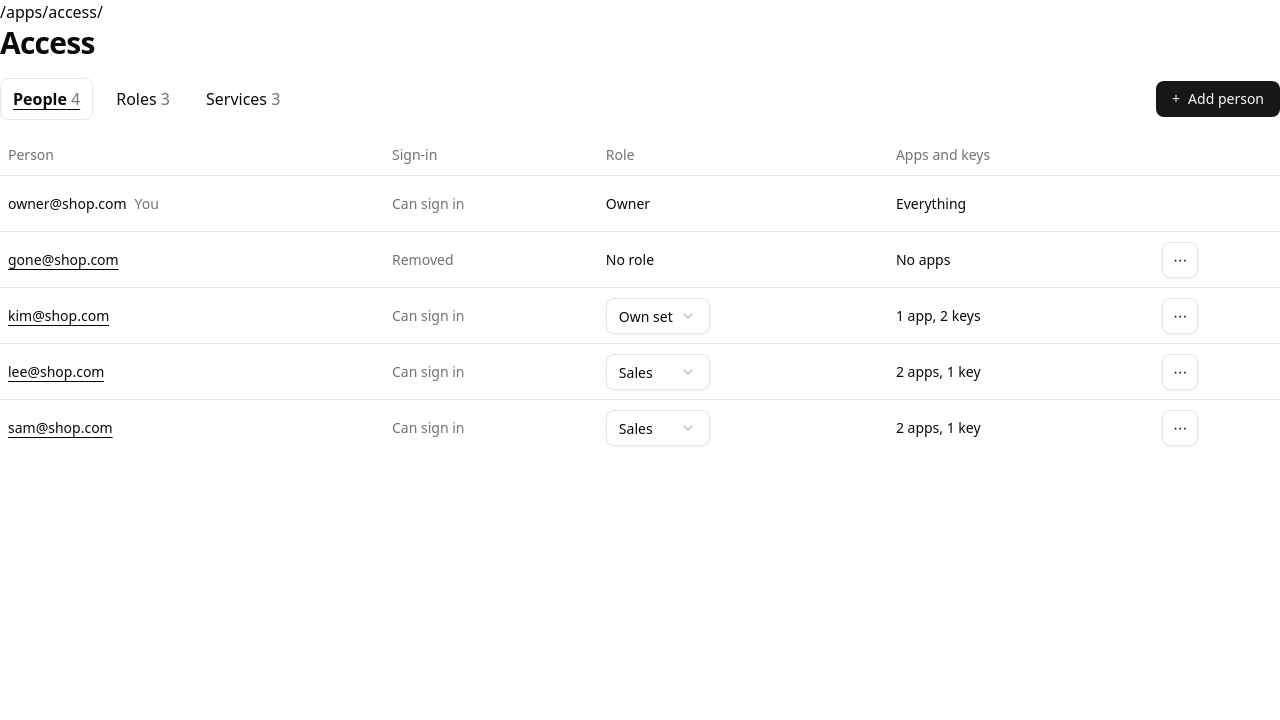
Test case: shows each person on one line with their role and counts, with nothing marked as missing, and opened, a role as labels with one link to it and no ticks
The width and height of the screenshot is (1280, 720).
Expected: the text "Can sign in" in the row of "lee@shop.com" is shown, left=392, top=362, right=464, bottom=380
Click the link "lee@shop.com".
click(56, 372)  # box left=8, top=362, right=104, bottom=382
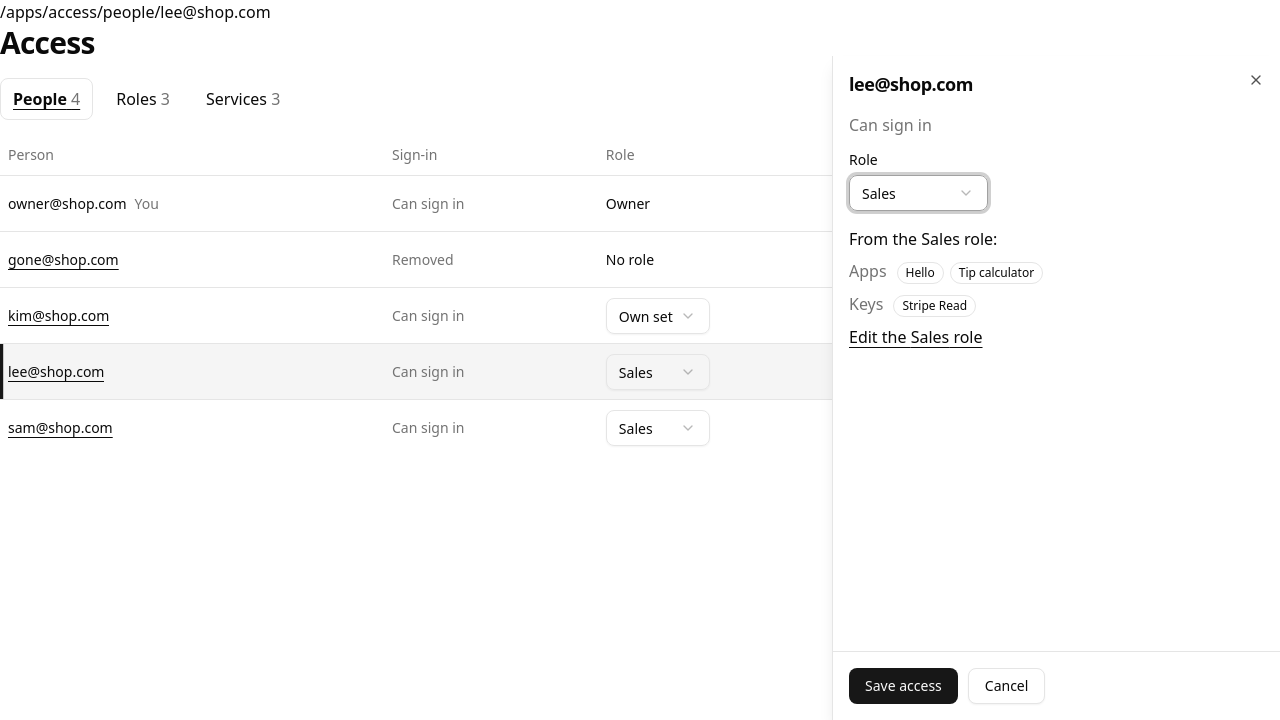
Now the text with test id "where" reads "/apps/access/people/lee@shop.com", box left=0, top=1, right=271, bottom=23
Now the text "Can sign in" is shown, box left=849, top=114, right=932, bottom=136
Now the dropdown labelled "Role" shows "Sales"
Select "Support" in the dropdown labelled "Role" at (918, 193), box left=849, top=175, right=988, bottom=211
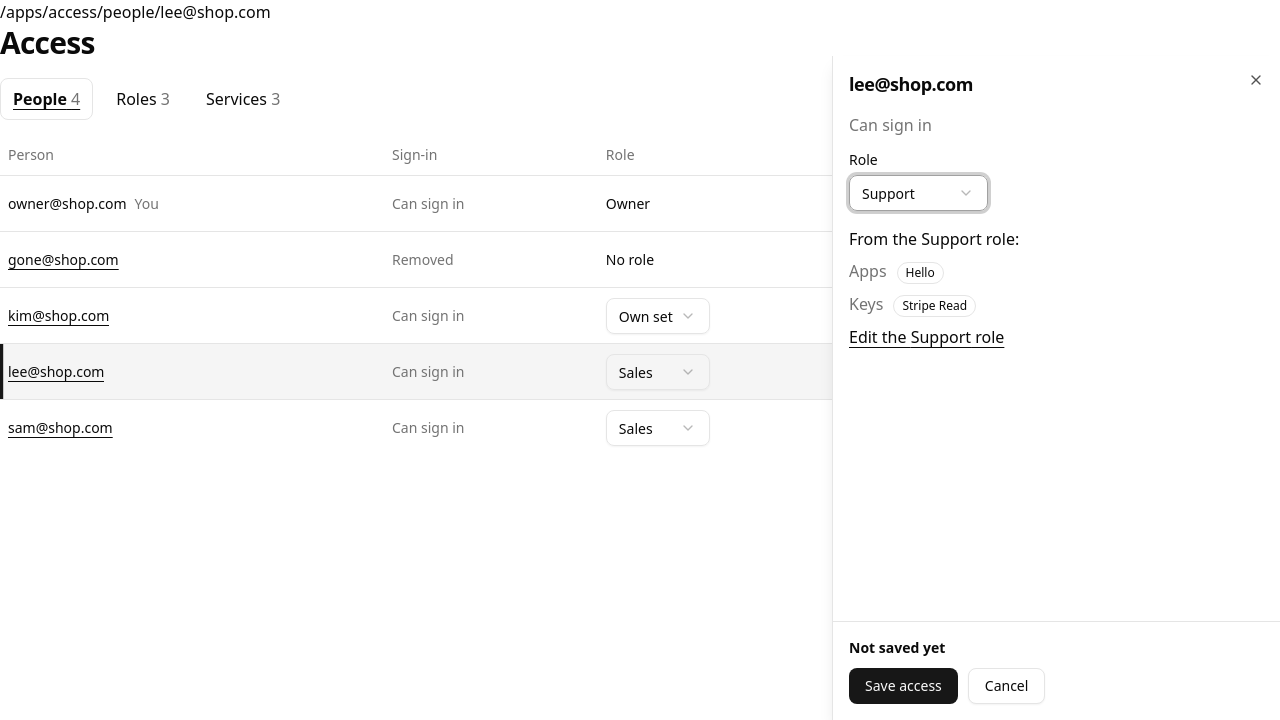
Now the text "From the Support role:" is shown, box left=849, top=228, right=1019, bottom=250
Select "Office" in the dropdown labelled "Role" at (918, 193), box left=849, top=175, right=988, bottom=211
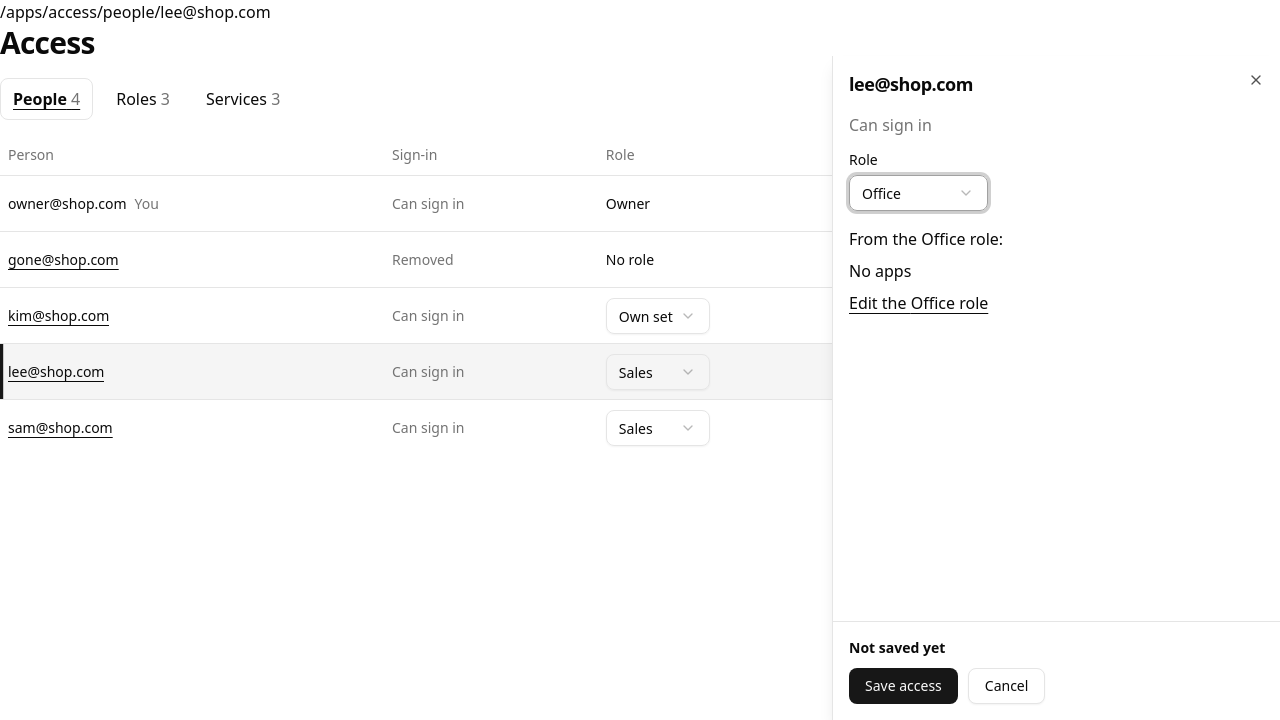
Now the text "No apps" is shown, box left=849, top=260, right=911, bottom=282
Click the button "Save access".
click(903, 686)  # box left=849, top=668, right=958, bottom=704
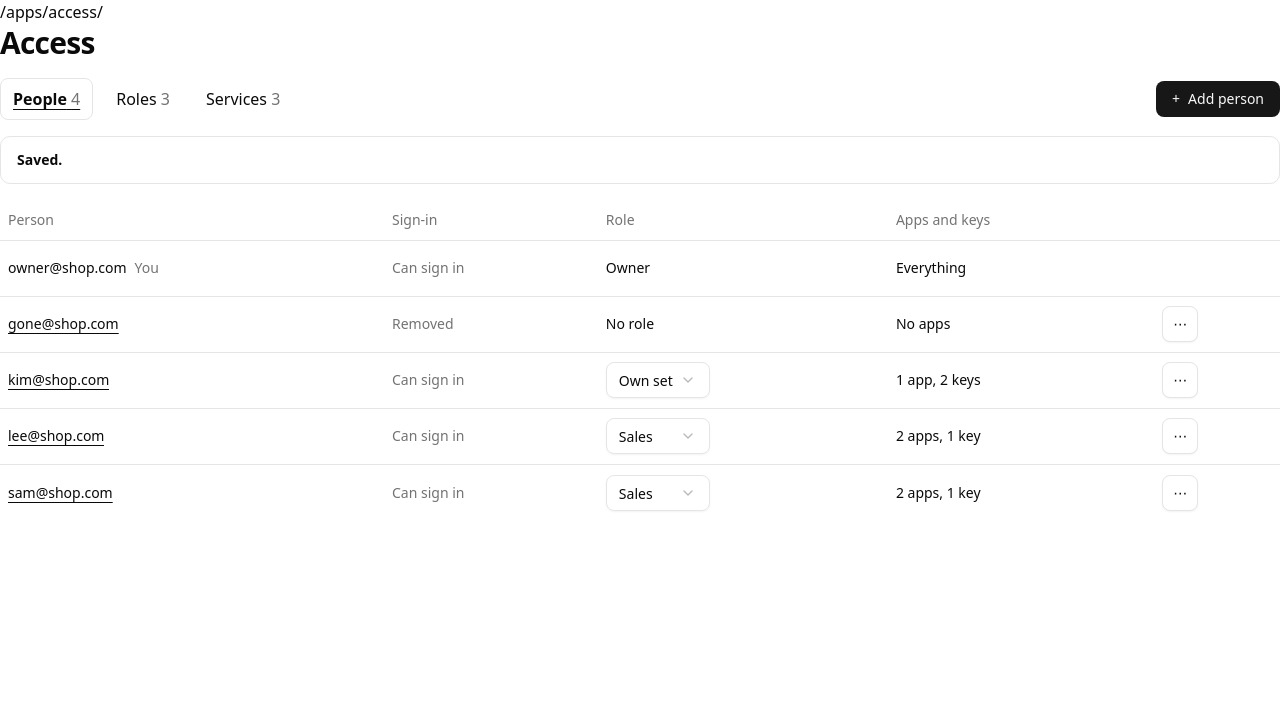
Expected: the text with test id "where" reads "/apps/access/", left=0, top=1, right=103, bottom=23
Now the text "Saved." is shown, box left=17, top=150, right=62, bottom=168
Click the link "sam@shop.com".
click(60, 492)  # box left=8, top=482, right=113, bottom=502
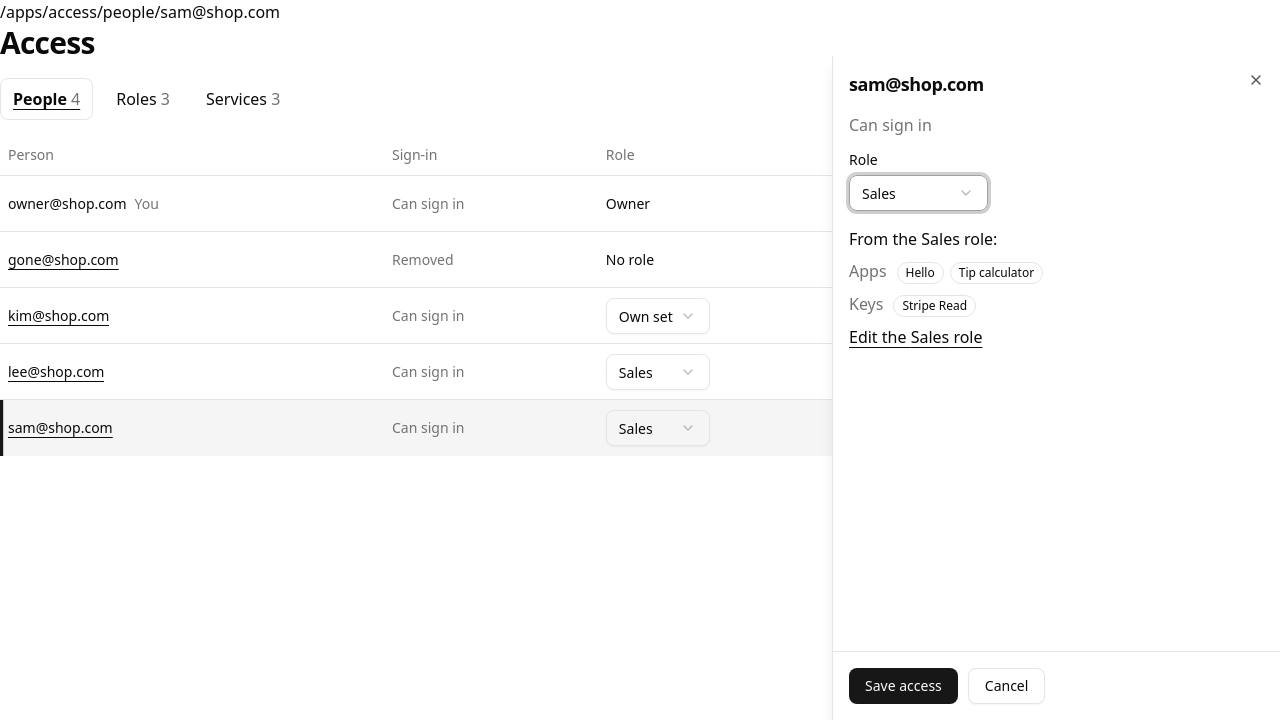
Click the link "Edit the Sales role".
click(916, 337)  # box left=849, top=326, right=982, bottom=348
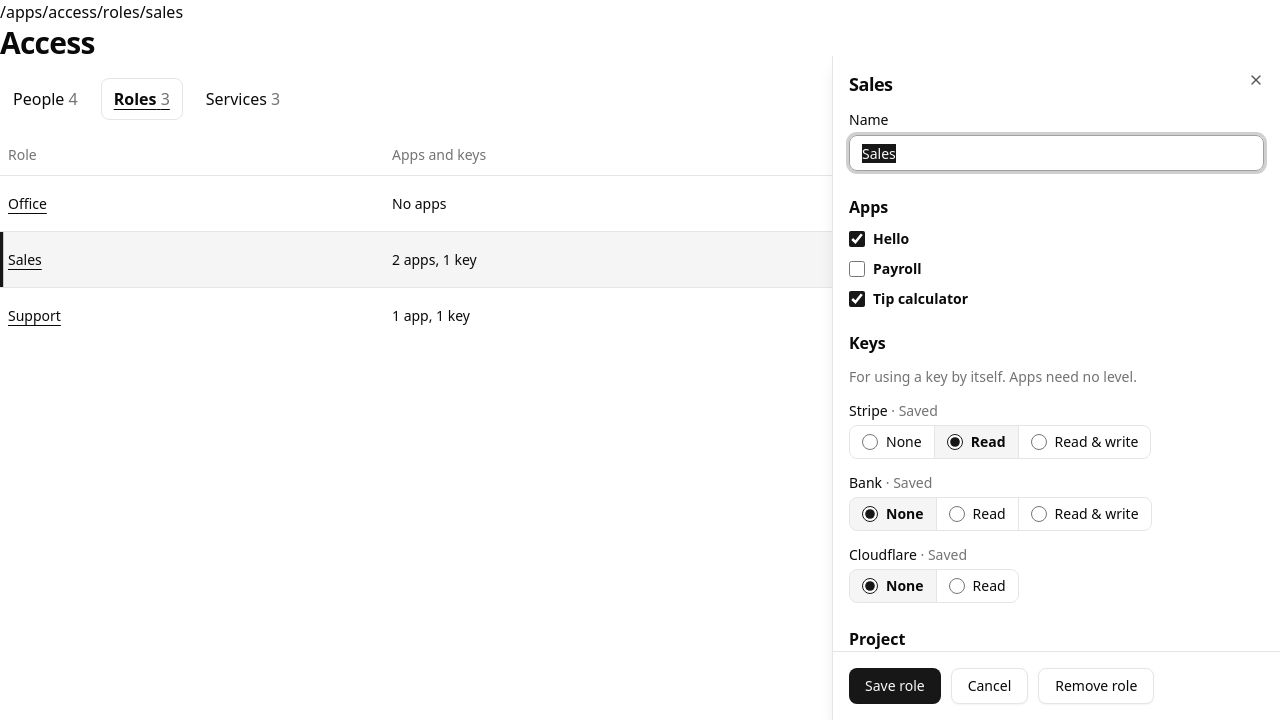
Now the field labelled "Name" holds "Sales", box left=849, top=135, right=1264, bottom=171
Now the text with test id "where" reads "/apps/access/roles/sales", box left=0, top=1, right=183, bottom=23
